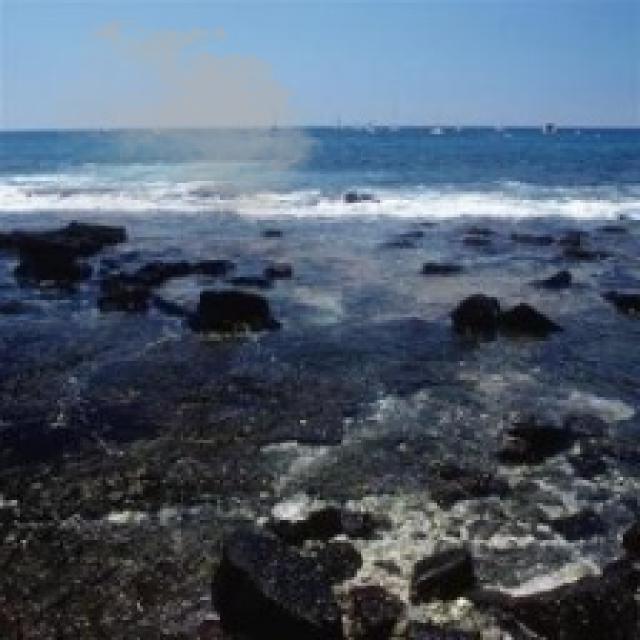smoke: (57, 11, 334, 226)
